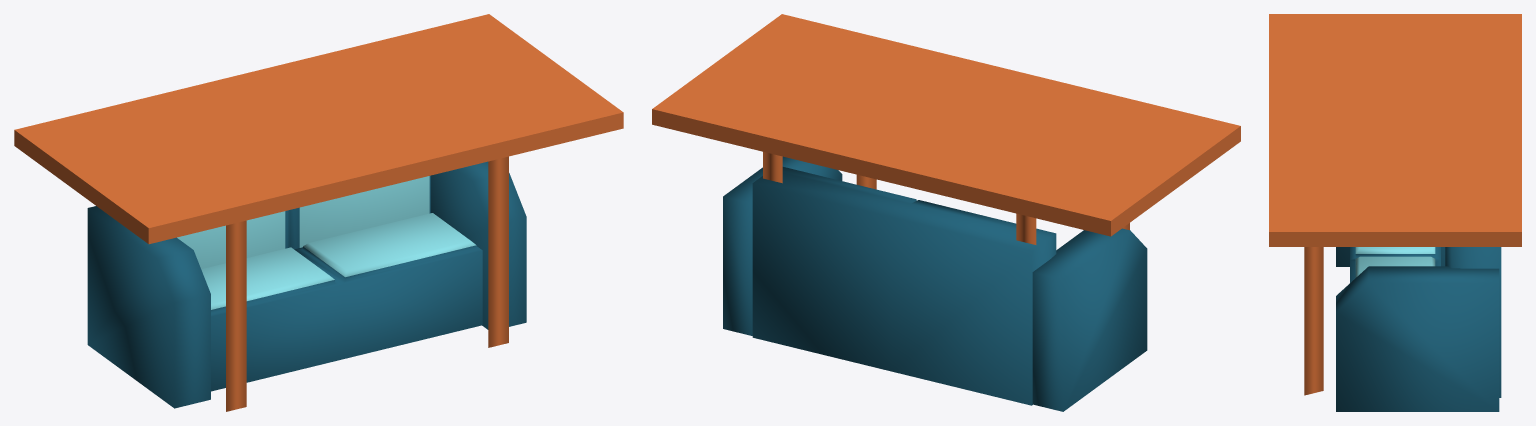
Rendered from modelos.fbx.
3 views of the same model, side by side, from view 1: azimuth 30°, elevation 25°; view 2: azimuth 150°, elevation 25°; view 3: azimuth 270°, elevation 25° (orthographic). The views are drawn at different scales.
Parts seen in each view (by area): view 1: Mesa, Sofa; view 2: Sofa, Mesa; view 3: Mesa, Sofa.
Boxes of the visible parts, left/top/right/bottom form: Mesa: left=14, top=14, right=623, bottom=411; Sofa: left=87, top=161, right=526, bottom=408; Sofa: left=723, top=156, right=1147, bottom=411; Mesa: left=652, top=14, right=1240, bottom=244; Mesa: left=1269, top=14, right=1521, bottom=395; Sofa: left=1336, top=247, right=1501, bottom=411.
Size of the model in its own units: 2.1 by 0.9355 by 1.03.
